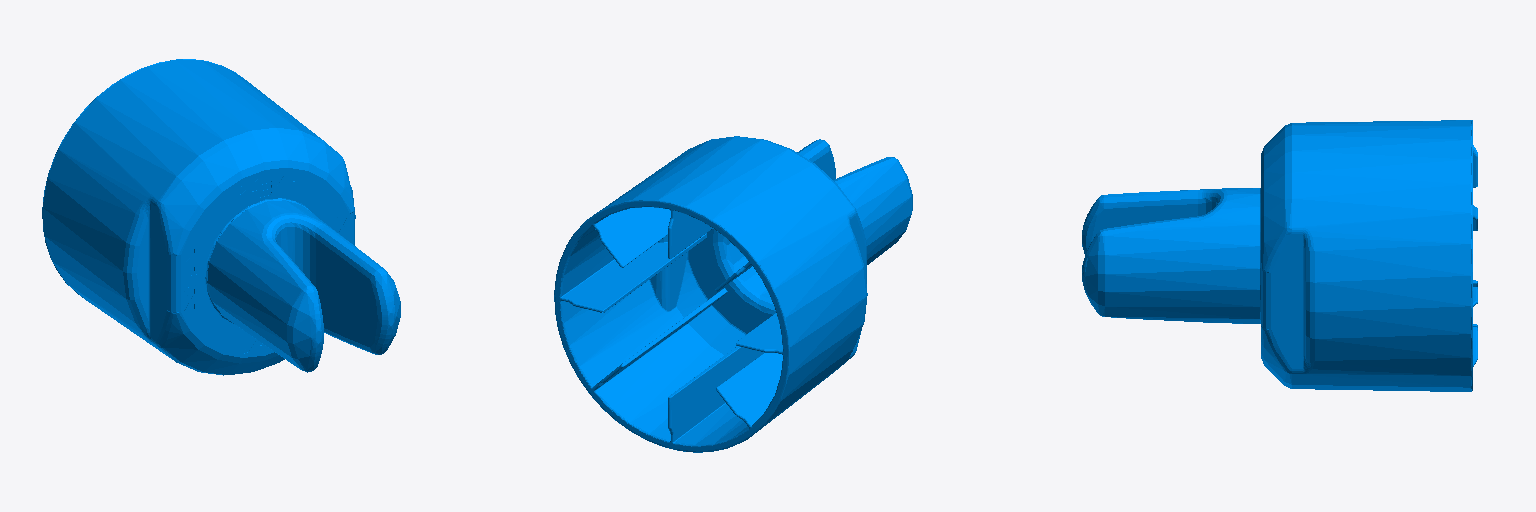
Rendered from VIQRC-MixAndMatch-H2H-_-GameObjects_BluePin.obj.
3 renders of one model, left to right at view 1: azimuth 30°, elevation 25°; view 2: azimuth 150°, elevation 25°; view 3: azimuth 270°, elevation 25°, orthographic.
Visible parts, largest first — view 1: Body1; view 2: Body1; view 3: Body1.
Boxes of the visible parts, <box> form: Body1: <box>42,59,400,375</box>; Body1: <box>554,136,912,452</box>; Body1: <box>1082,120,1477,391</box>.
Size of the model in its own units: 79.79 by 79.87 by 116.